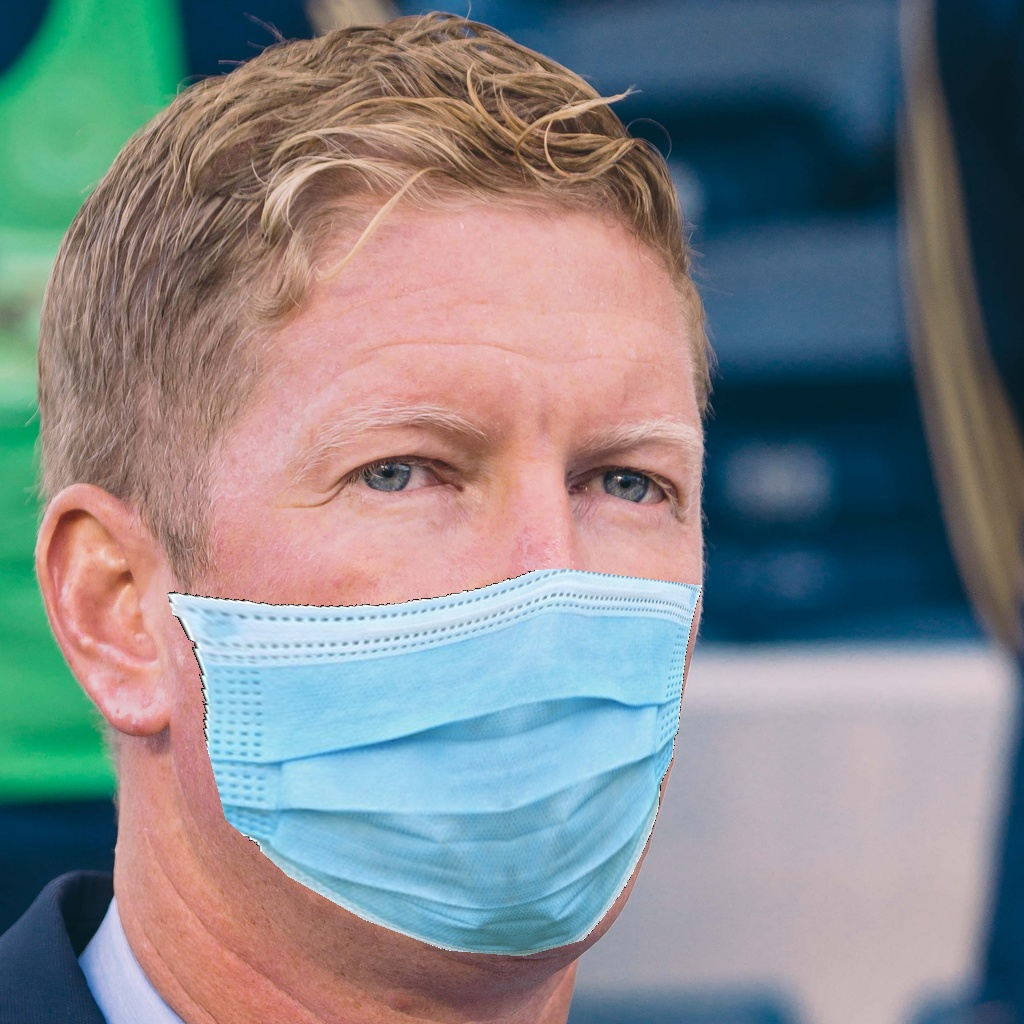Mask: (168, 397, 727, 957)
